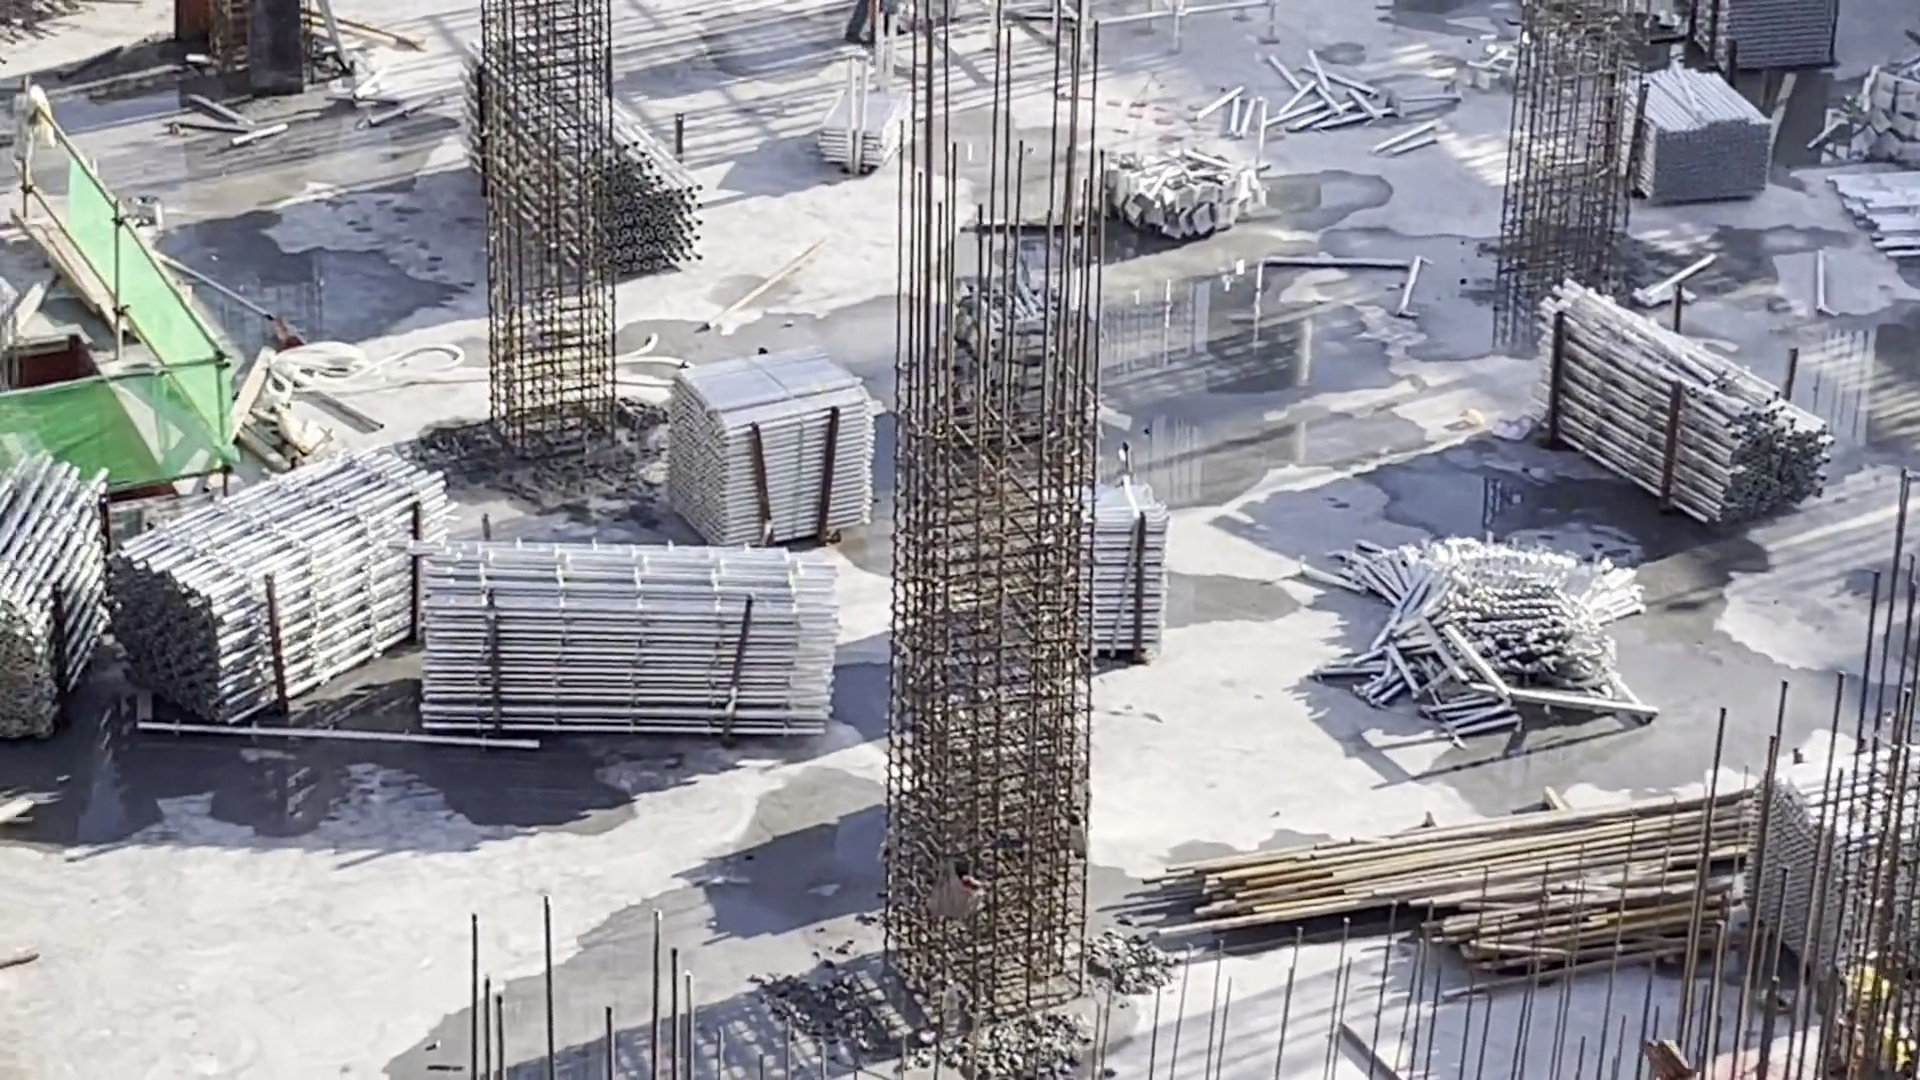person: (849, 1, 886, 40)
scaffold: (407, 549, 826, 743), (1525, 321, 1803, 567), (169, 445, 439, 693), (1344, 555, 1632, 728), (459, 49, 688, 264), (1752, 759, 1920, 980), (677, 385, 864, 543), (23, 469, 127, 732), (1038, 484, 1166, 679), (1643, 88, 1764, 237), (1685, 1, 1843, 68), (816, 86, 895, 172)
